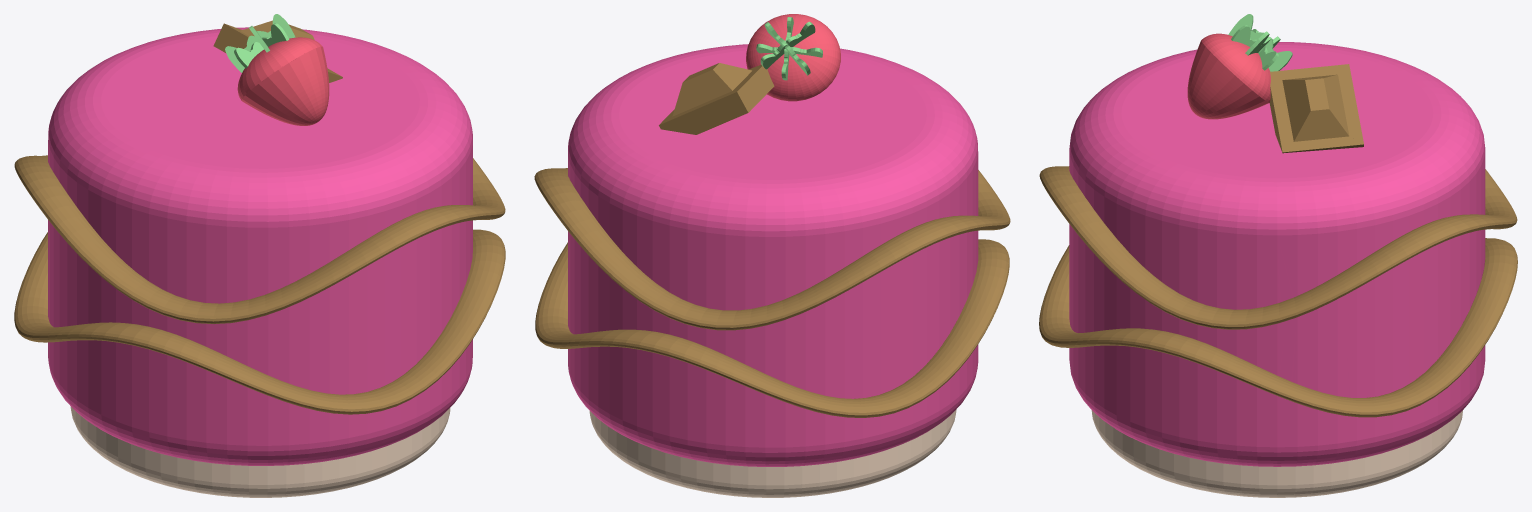
Rendered from chocostrawberrycake.glb.
3 renders of one model, left to right at view 1: azimuth 30°, elevation 25°; view 2: azimuth 150°, elevation 25°; view 3: azimuth 270°, elevation 25°, orthographic. The views are drawn at different scales.
Parts seen in each view (by area): view 1: obj_0; view 2: obj_0; view 3: obj_0.
Part boxes in pixels (box(x1,y1,x2,y2)): obj_0: box(14, 14, 505, 497); obj_0: box(534, 14, 1010, 497); obj_0: box(1039, 14, 1517, 497).
Size of the model in its own units: 1.27 by 1.2 by 1.28.
